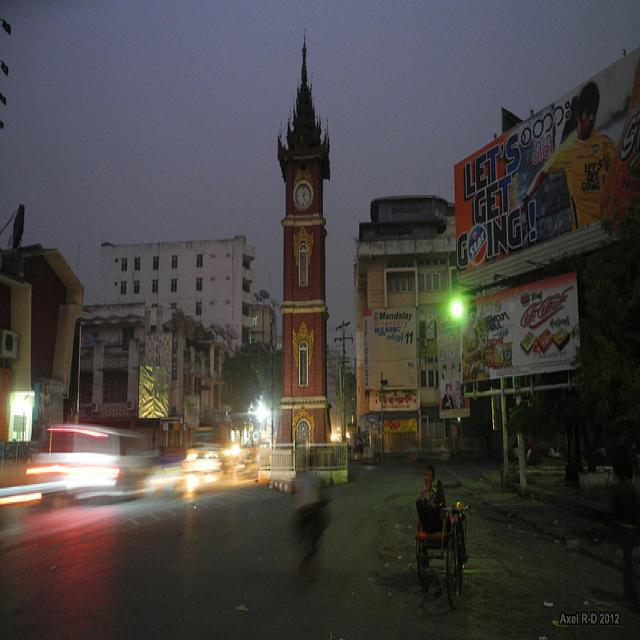Vehicle: (48, 426, 154, 493), (182, 447, 219, 479)
